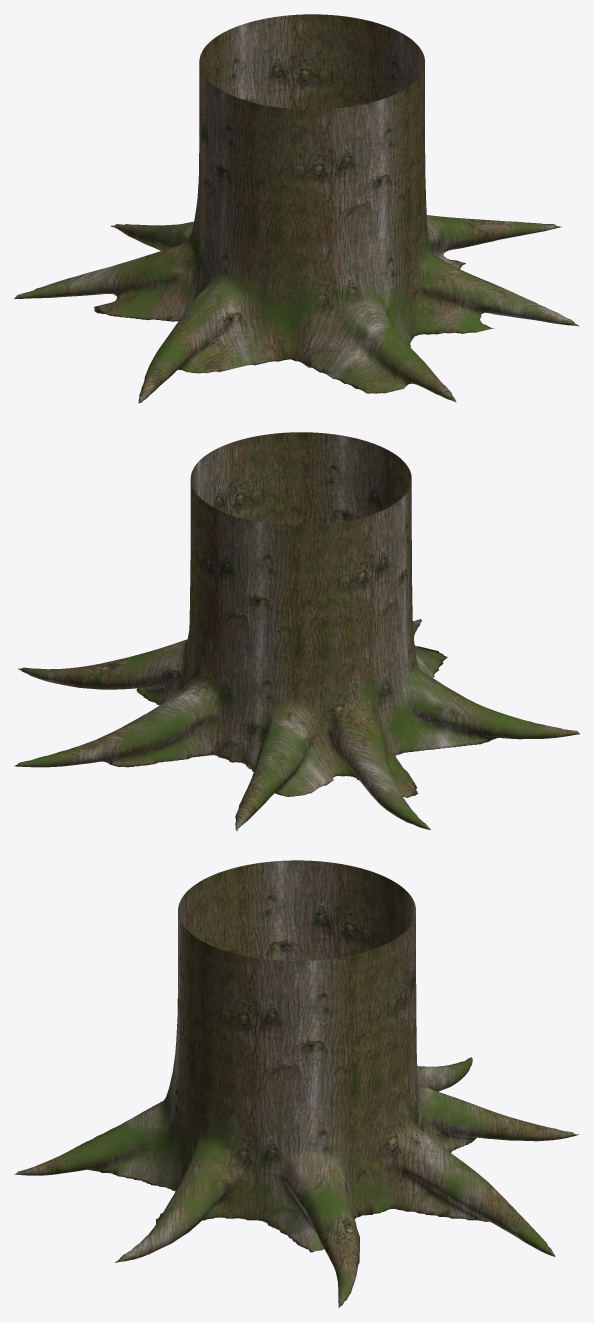
File: root-base-a-prototype.glb
3 views of the same model, one above another, from view 1: azimuth 30°, elevation 25°; view 2: azimuth 150°, elevation 25°; view 3: azimuth 270°, elevation 25° (orthographic). The views are drawn at different scales.
Parts seen in each view (by area): view 1: root_base_a_baked; view 2: root_base_a_baked; view 3: root_base_a_baked.
Boxes of the visible parts, x1,y1,x2,y2 form: root_base_a_baked: (14, 14, 579, 403); root_base_a_baked: (14, 432, 579, 831); root_base_a_baked: (14, 860, 579, 1307).
Size of the model in its own units: 5.11 by 2.41 by 4.75.
1 material, 1 textured.
